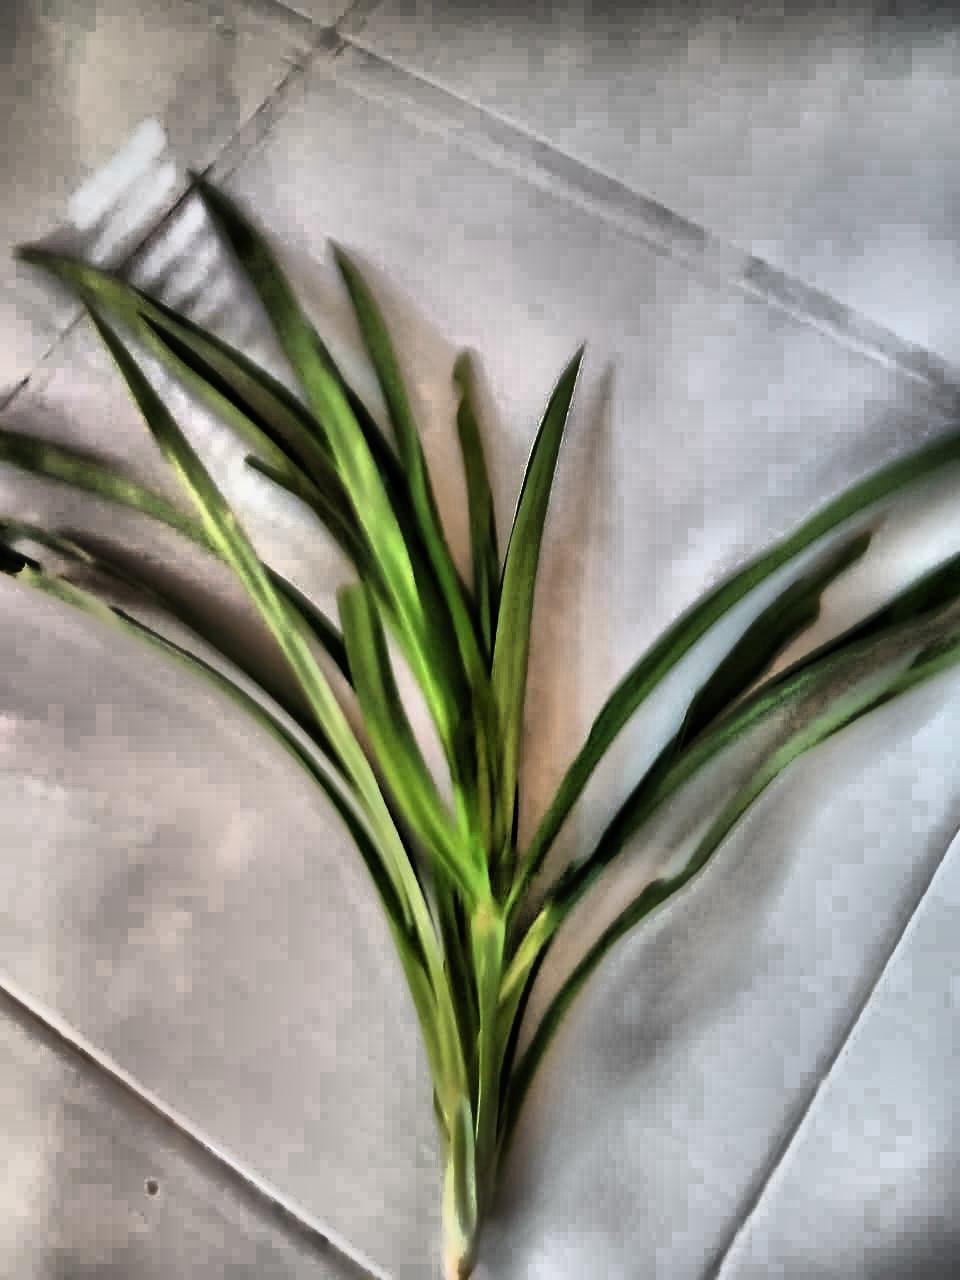daun pandan: (0, 180, 959, 1279)
